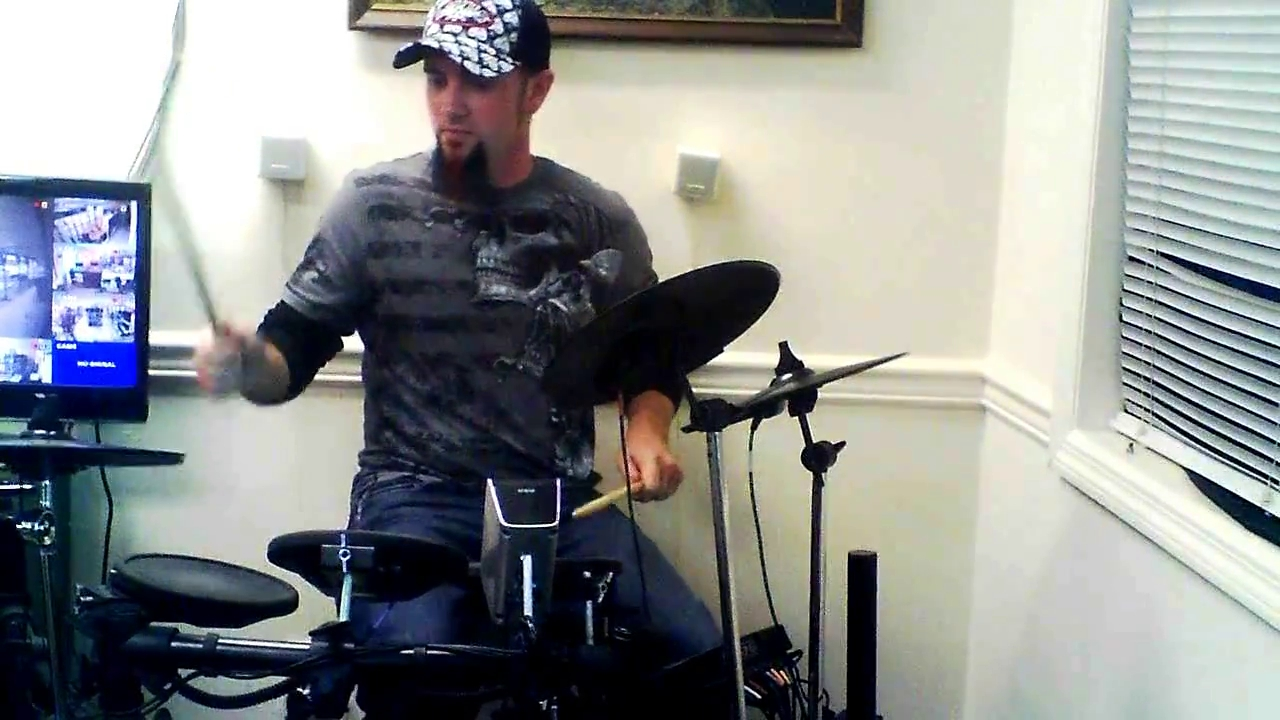person: (189, 1, 743, 720)
